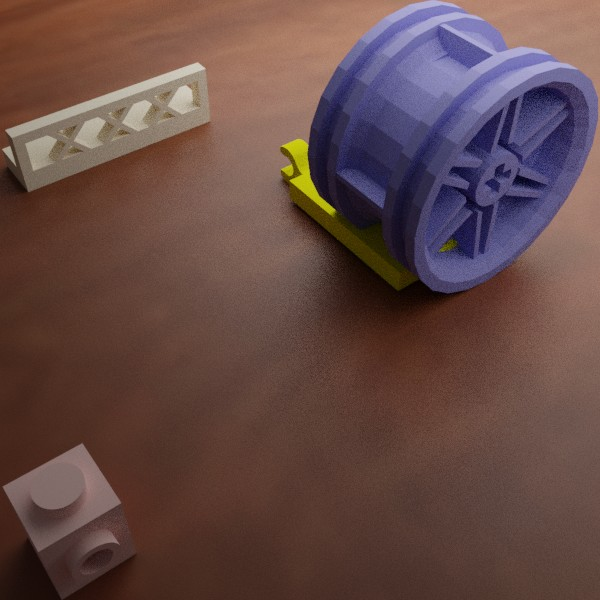lego: (307, 0, 598, 293), (280, 121, 489, 291), (1, 62, 210, 192), (2, 443, 136, 599)
